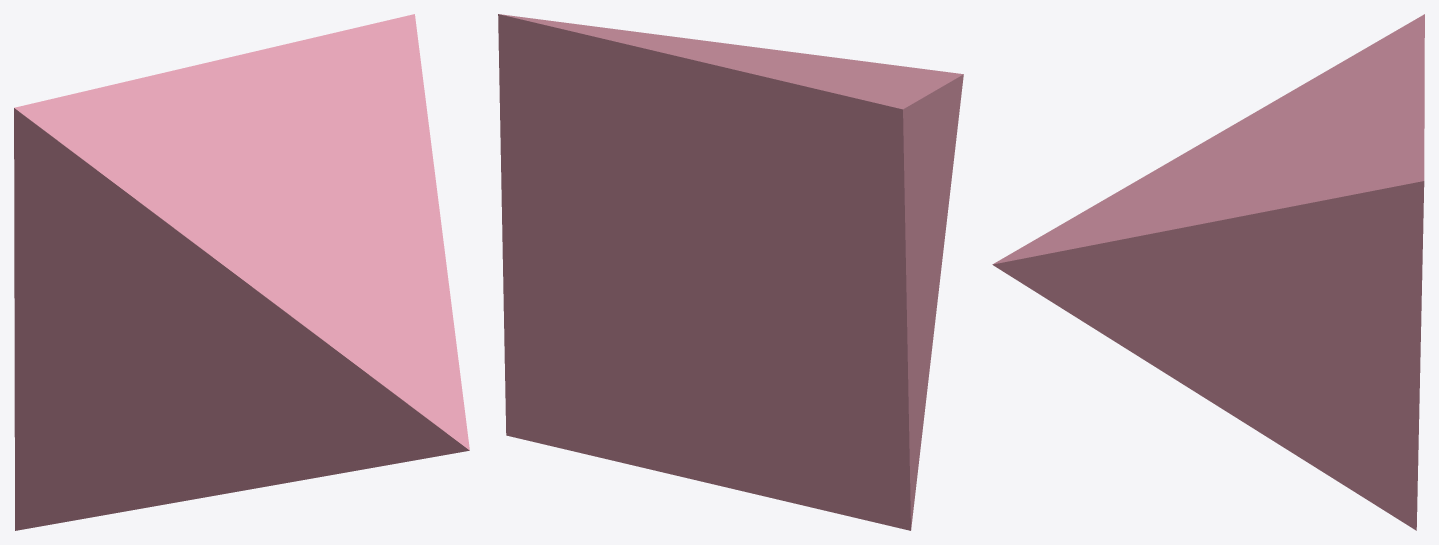
File: FireParticle.fbx
The picture shows the model from 3 angles, left to right: view 1: azimuth 30°, elevation 25°; view 2: azimuth 150°, elevation 25°; view 3: azimuth 270°, elevation 25°; orthographic projection. The views are drawn at different scales.
Visible parts, largest first — view 1: Plane; view 2: Plane; view 3: Plane.
Boxes of the visible parts, <box> form: Plane: <box>14,14,469,530</box>; Plane: <box>498,14,963,530</box>; Plane: <box>992,14,1424,530</box>.
Size of the model in its own units: 0.9248 by 0.9246 by 1.02.
